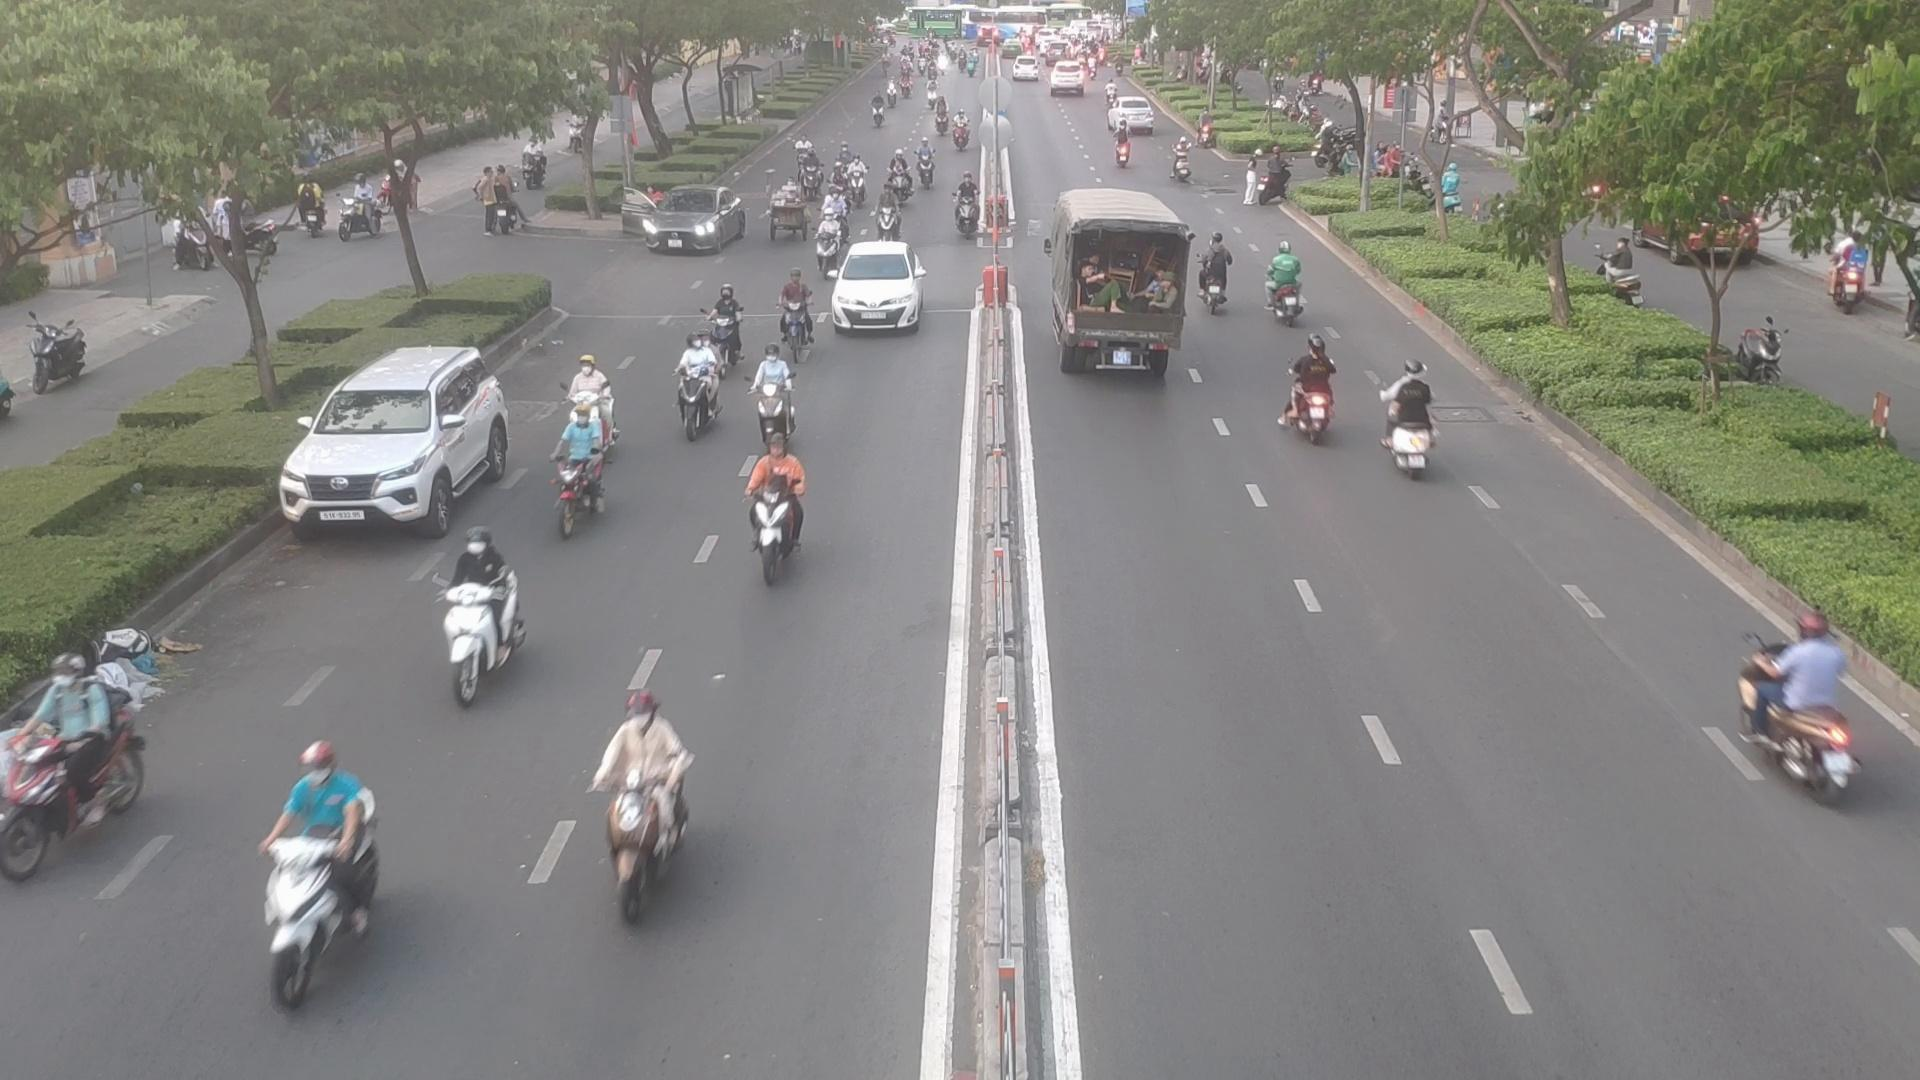car: (287, 349, 524, 541), (832, 247, 928, 339), (620, 193, 752, 260)
motorbike: (245, 756, 384, 1007), (0, 661, 142, 884), (1724, 613, 1862, 804), (595, 692, 705, 923), (422, 529, 533, 699), (735, 444, 814, 579), (549, 400, 618, 538), (1378, 368, 1448, 473), (1275, 342, 1340, 436), (674, 343, 728, 440), (1258, 247, 1319, 332), (1195, 227, 1246, 315), (699, 284, 750, 359), (781, 276, 824, 360), (748, 352, 798, 421), (564, 353, 618, 409), (953, 189, 988, 243), (816, 218, 851, 269), (1167, 141, 1199, 185), (882, 157, 913, 202), (873, 200, 905, 243), (1105, 133, 1135, 171), (800, 160, 828, 200), (918, 144, 942, 185)
